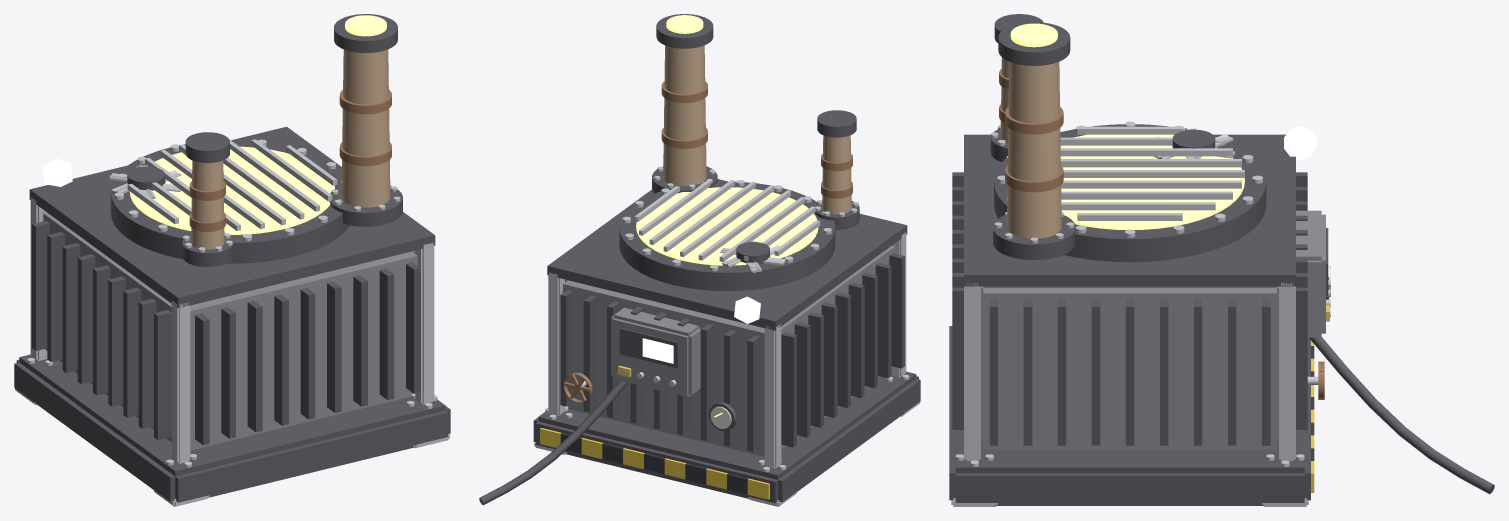
Rendered from heater_1.fbx.
3 renders of one model, left to right at view 1: azimuth 30°, elevation 25°; view 2: azimuth 150°, elevation 25°; view 3: azimuth 270°, elevation 25°, orthographic. The views are drawn at different scales.
Visible parts, largest first — view 1: heater_1, Spin_Y_Fan, Indicator; view 2: heater_1, Spin_Y_Fan, Indicator; view 3: heater_1, Spin_Y_Fan, Indicator.
Boxes of the visible parts, x1,y1,x2,y2 form: heater_1: (14,14,450,506); Spin_Y_Fan: (109,165,181,198); Indicator: (42,158,72,186); heater_1: (479,14,920,506); Spin_Y_Fan: (720,241,785,273); Indicator: (734,296,760,323); heater_1: (949,14,1494,506); Spin_Y_Fan: (1154,128,1235,158); Indicator: (1284,126,1316,160).
Bounding box in the file's own units: 1.7 × 2.33 × 2.56.
